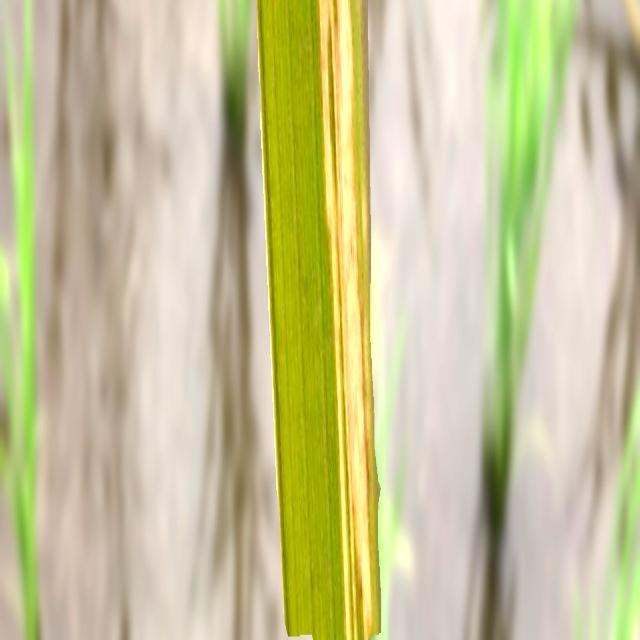BLS: (318, 0, 375, 640), (356, 0, 357, 6)
